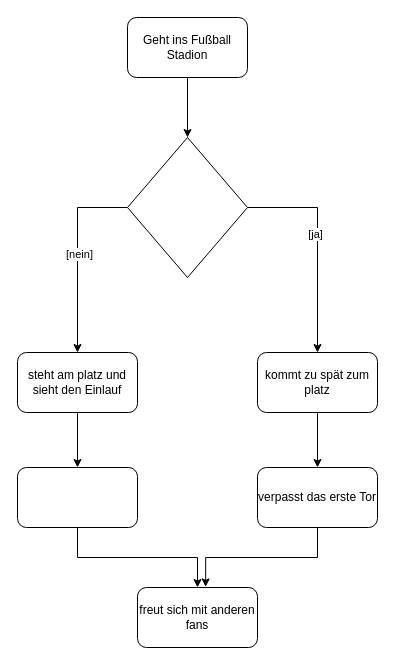
The diagram is 395 pixels wide and 665 high, and some of its shapes have lost their labels. The centre of each missing label's shape, as x and y in pixels:
"an der langen getränkeschlange anstellen" belongs at (x=187, y=207).
"sieht das erste Tor" belongs at (x=77, y=497).
